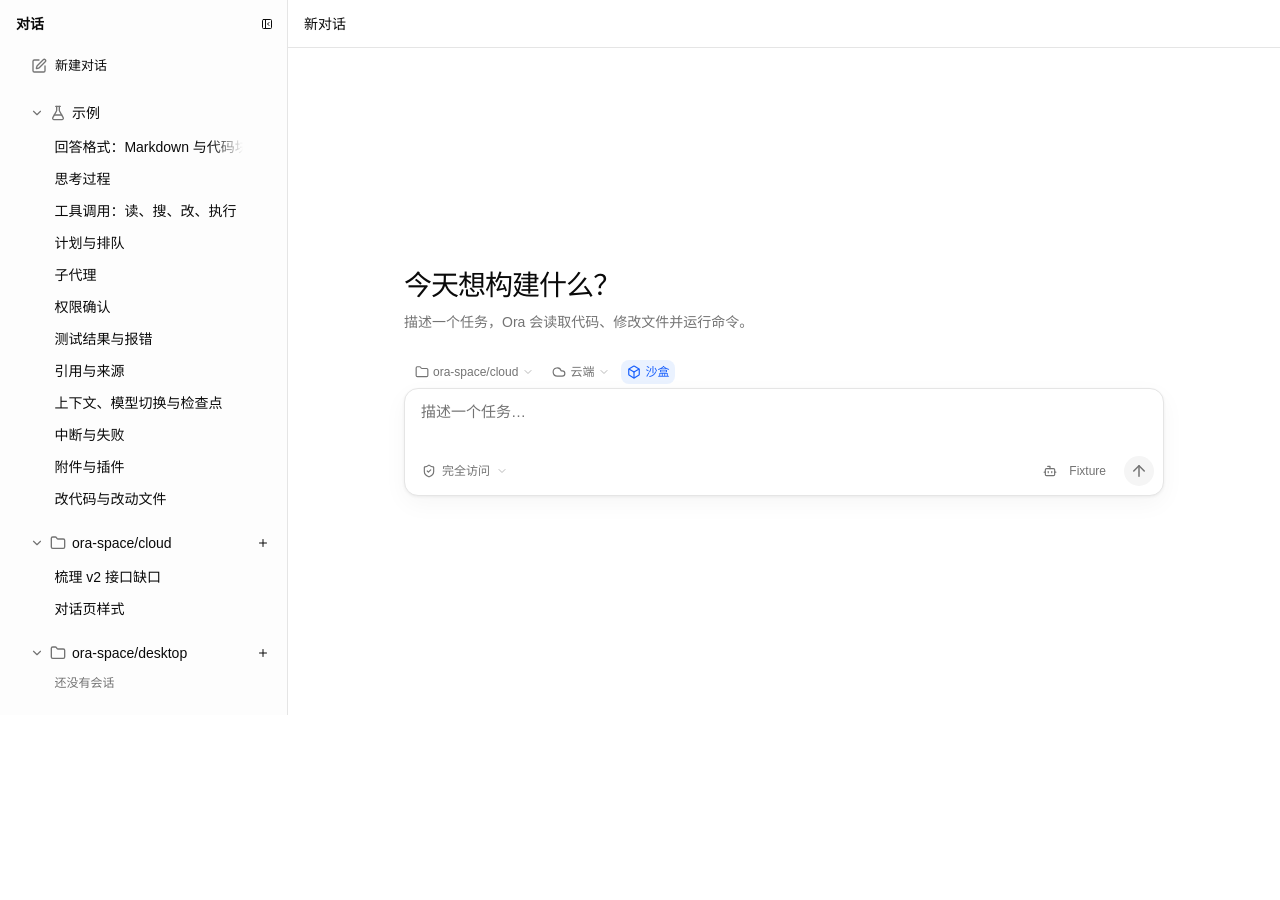
Scenario: chat page › asks for permission inline and continues with the answer
Click the button "权限确认". click: x=149, y=307
box: [46,291,251,323]
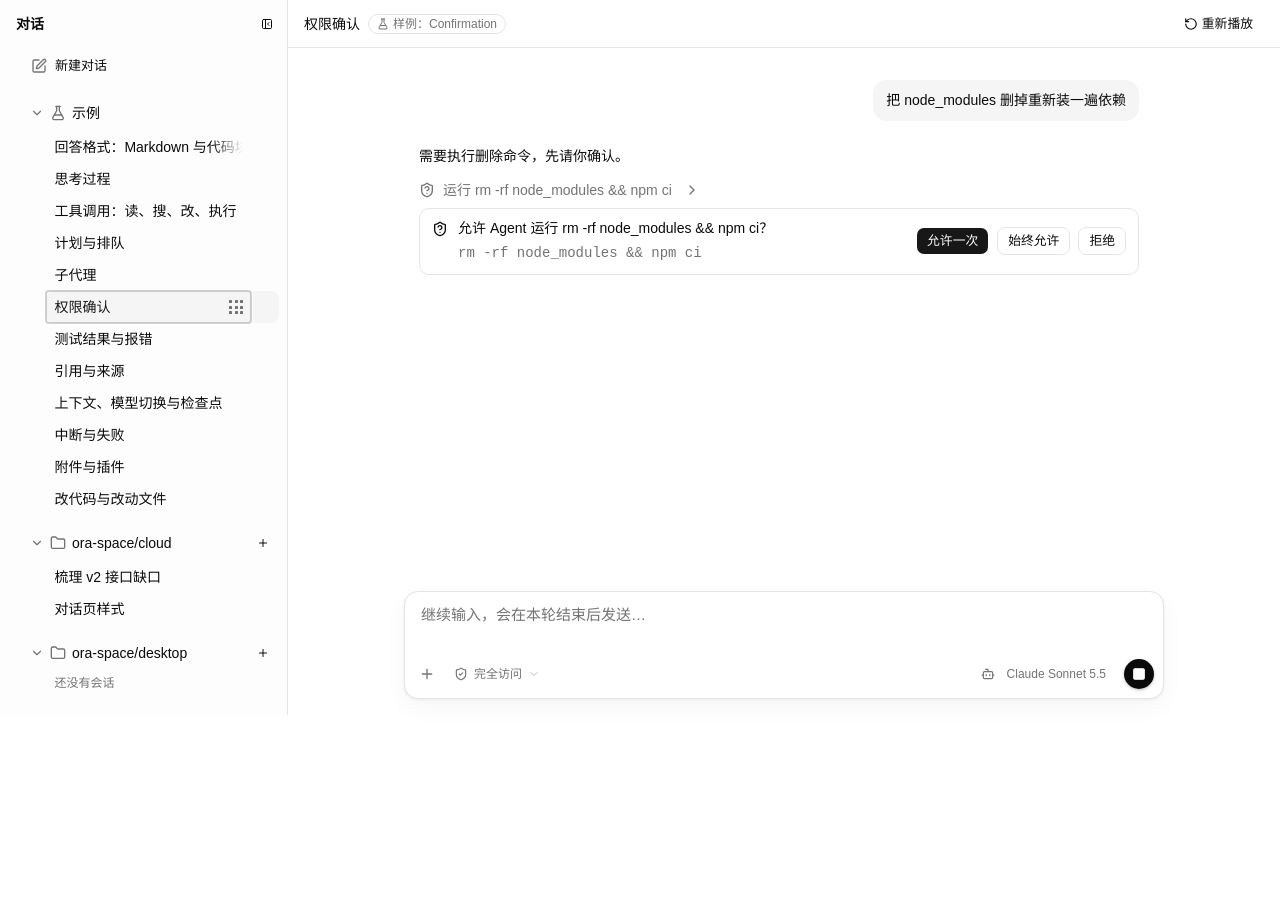
Click the button "允许一次". click: x=953, y=241
box: [916,227,989,255]
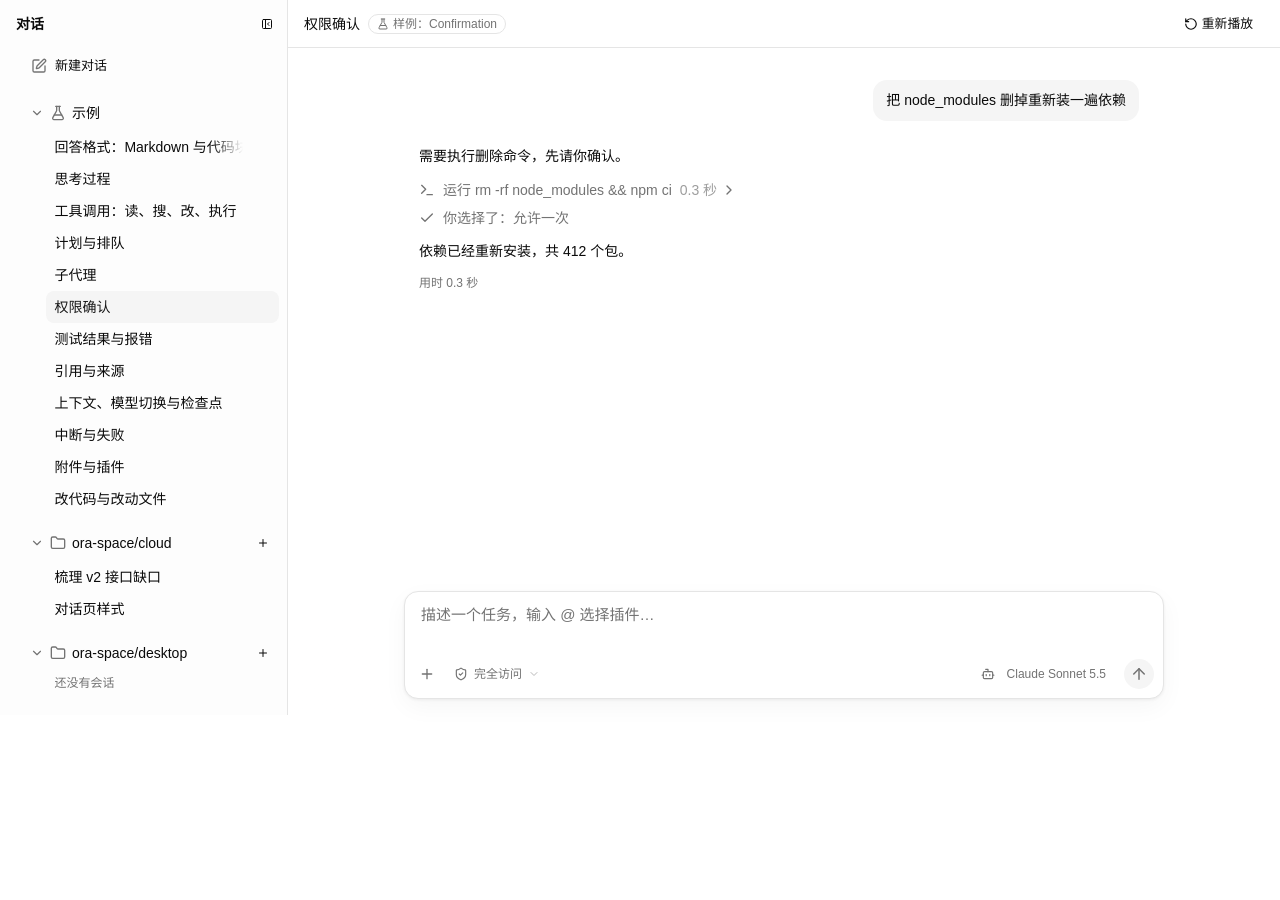
Expected: the text "你选择了：允许一次" is shown, [443,208,569,228]
Expected: the text "依赖已经重新安装，共 412 个包。" is shown, [419,242,632,258]
